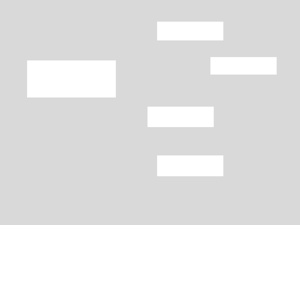square: (25, 58, 118, 99), (145, 103, 217, 129), (155, 153, 225, 178), (210, 54, 279, 76), (156, 20, 225, 41)
